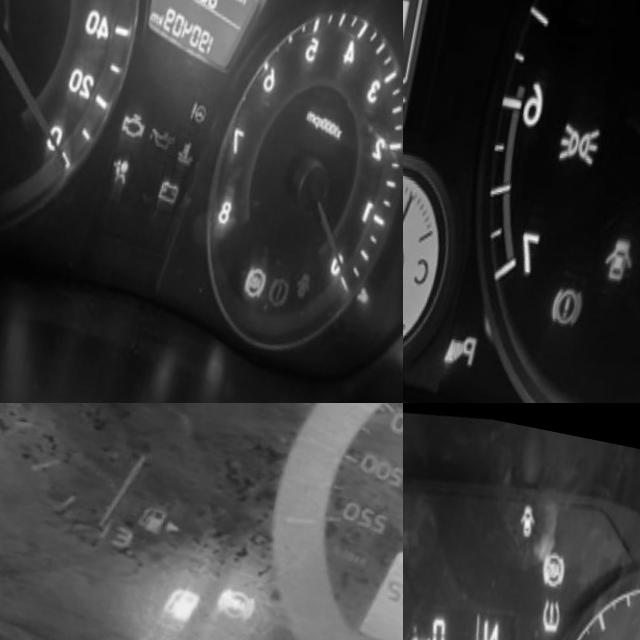Doors: (517, 478, 548, 534), (308, 247, 331, 287)
Engine cooling system: (187, 124, 210, 153)
